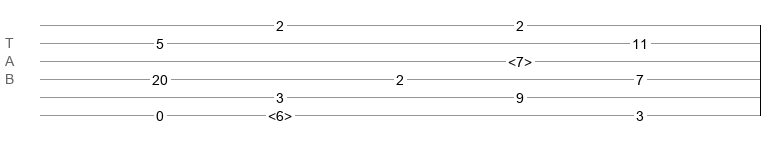0: (156, 108, 164, 118)
11: (632, 36, 648, 46)
2: (276, 18, 284, 28), (396, 72, 404, 82), (516, 18, 524, 28)
20: (152, 72, 168, 82)
3: (276, 90, 284, 100), (636, 108, 644, 118)
5: (156, 36, 164, 46)
7: (636, 72, 644, 82)
9: (516, 90, 524, 100)
harmonic: (268, 108, 292, 118), (508, 54, 532, 64)
